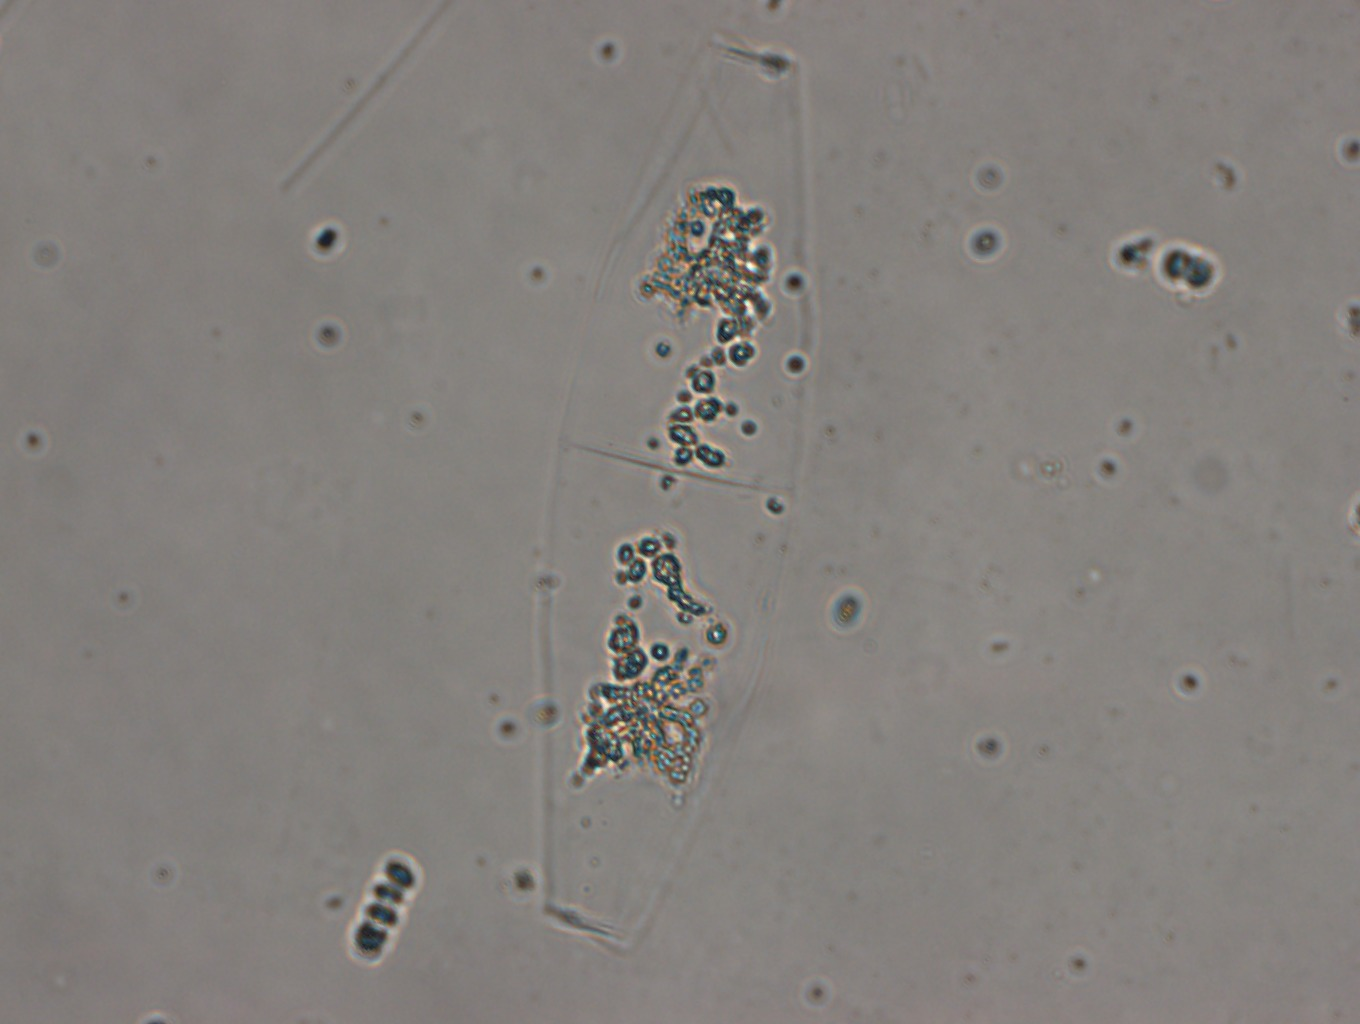helicotheca: (545, 33, 811, 957)
skeletonema: (348, 852, 423, 962)
